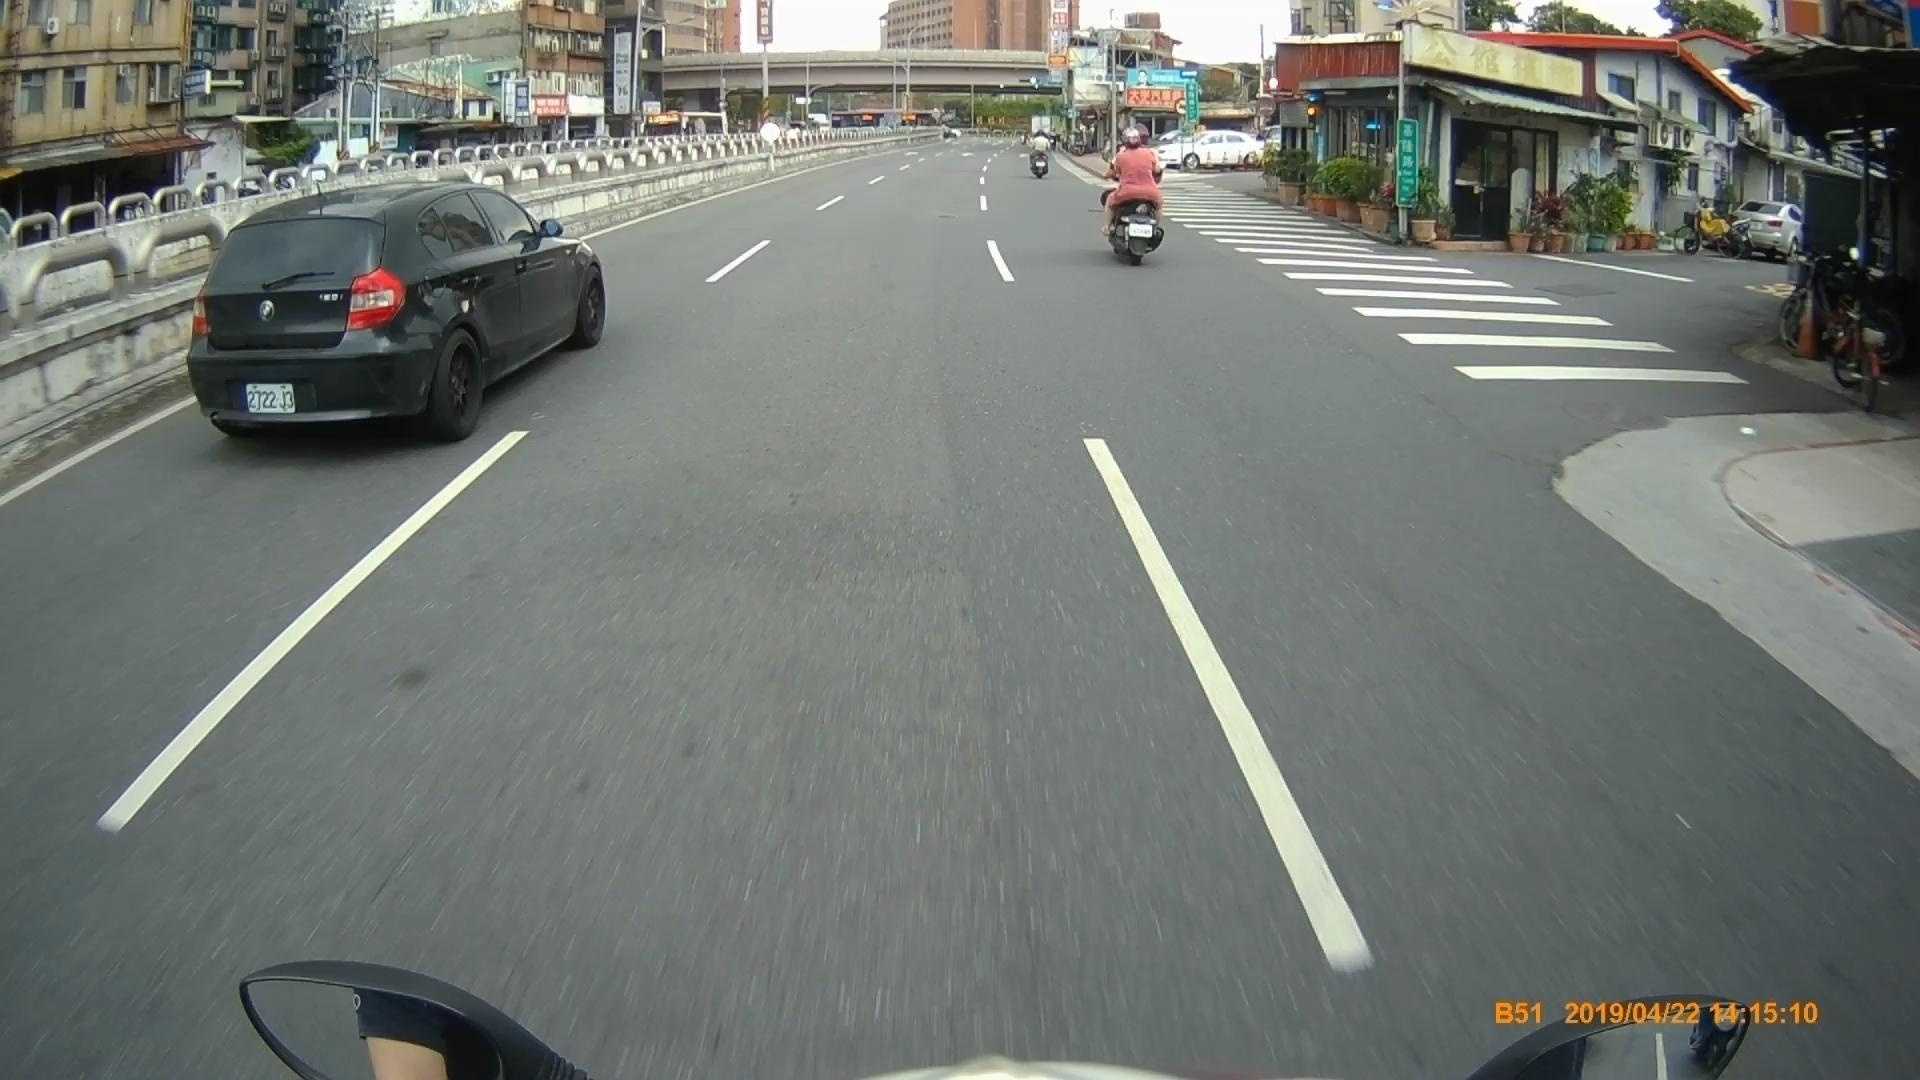License_plate: (242, 379, 299, 415)
